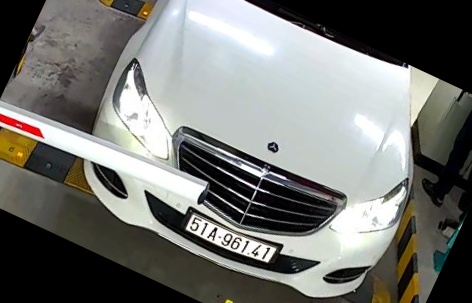plate: (177, 209, 291, 270)
